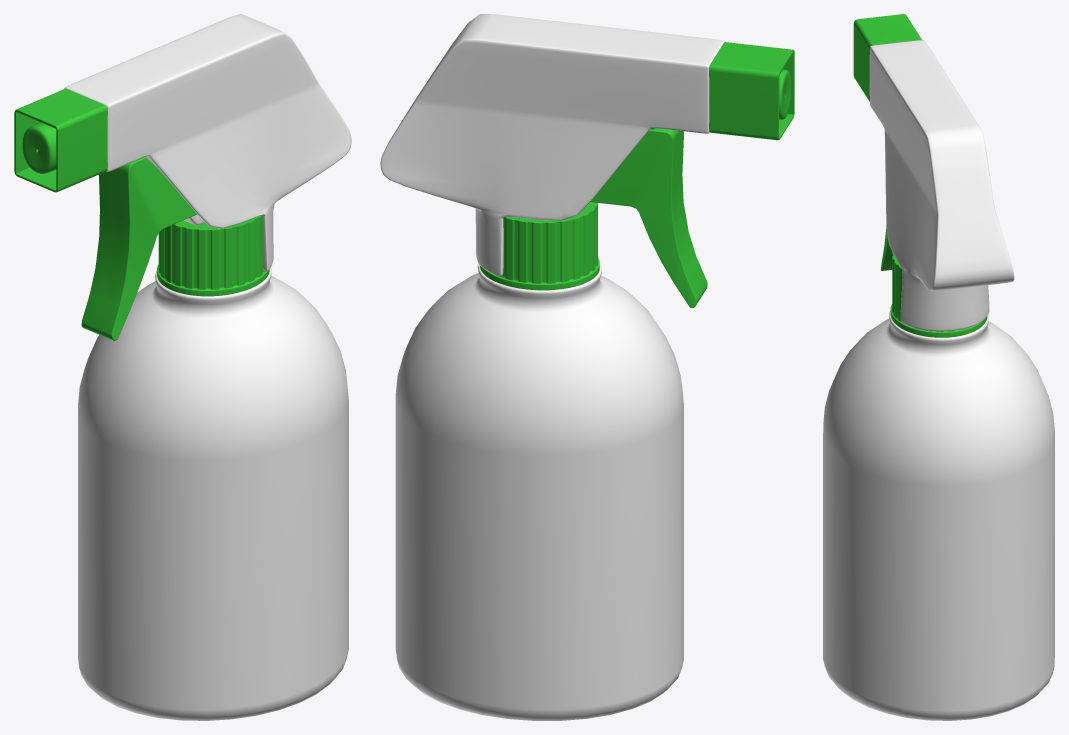
File: water-spray2.fbx
The picture shows the model from 3 angles, left to right: view 1: azimuth 30°, elevation 25°; view 2: azimuth 150°, elevation 25°; view 3: azimuth 270°, elevation 25°; orthographic projection. The views are drawn at different scales.
Parts seen in each view (by area): view 1: water_spray2; view 2: water_spray2; view 3: water_spray2.
Part boxes in pixels (x1,y1,x2,y2): water_spray2: (14, 14, 351, 720); water_spray2: (380, 14, 794, 720); water_spray2: (823, 14, 1054, 720).
Size of the model in its own units: 29.5 by 50.16 by 18.67.
